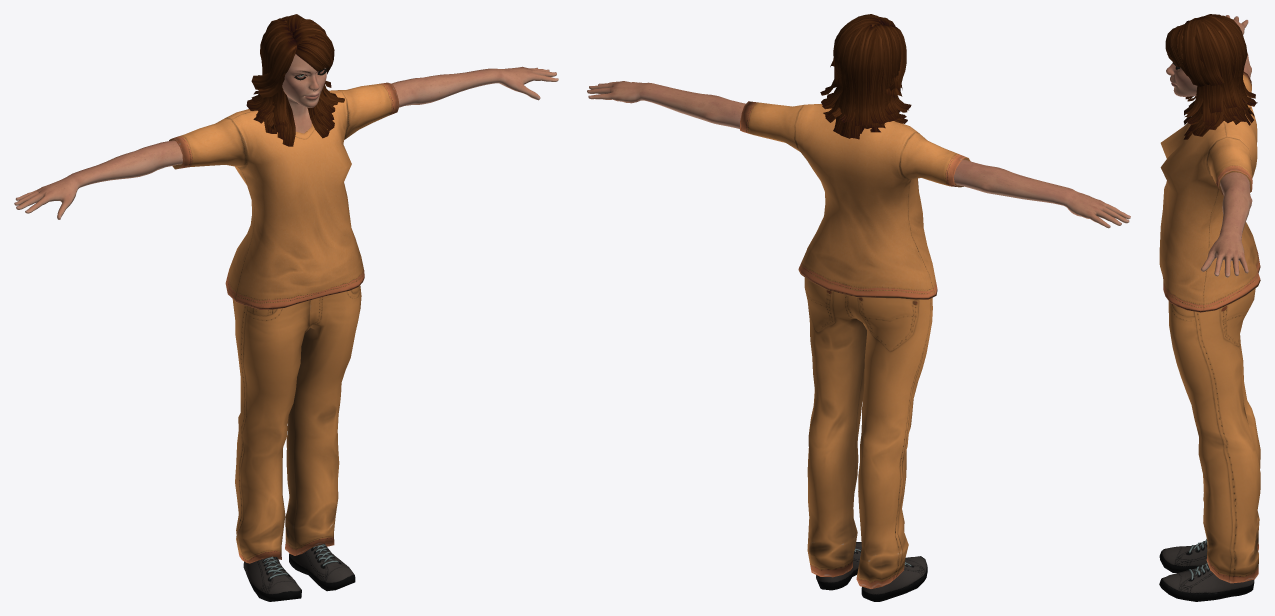
Rendered from ClassD3.obj.
3 views of the same model, side by side, from view 1: azimuth 30°, elevation 25°; view 2: azimuth 150°, elevation 25°; view 3: azimuth 270°, elevation 25° (orthographic).
Visible parts, largest first — view 1: Bottoms, Tops, Body, Hair, Shoes; view 2: Bottoms, Tops, Hair, Body, Shoes; view 3: Bottoms, Tops, Hair, Body, Shoes.
Boxes of the visible parts, x1,y1,x2,y2 form: Bottoms: (232,285,361,563); Tops: (169,82,399,309); Body: (14,54,558,219); Hair: (246,14,344,146); Shoes: (243,543,355,601); Bottoms: (804,277,932,588); Tops: (740,101,970,299); Hair: (820,14,911,139); Body: (587,81,1130,228); Shoes: (816,542,927,601); Bottoms: (1168,288,1260,583); Tops: (1159,71,1260,312); Hair: (1165,14,1257,139); Body: (1166,15,1252,277); Shoes: (1159,539,1254,601).
Size of the model in its own units: 179 by 179 by 29.2.
Materials: 5 (5 with a texture image).
